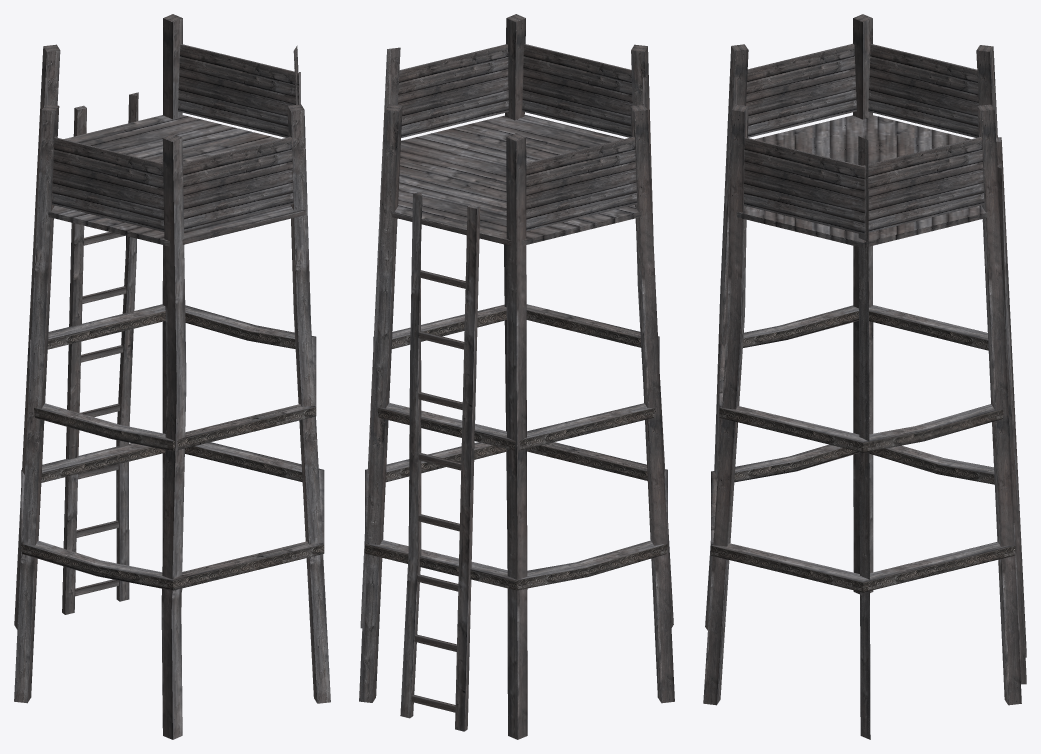
File: v3_huntingtower_LOD.dae
3 views of the same model, side by side, from view 1: azimuth 30°, elevation 25°; view 2: azimuth 150°, elevation 25°; view 3: azimuth 270°, elevation 25° (orthographic).
Parts seen in each view (by area): view 1: WoodPlanks, Wood_planks_ornaments; view 2: WoodPlanks, Wood_planks_ornaments; view 3: WoodPlanks, Wood_planks_ornaments.
Boxes of the visible parts, x1,y1,x2,y2 form: WoodPlanks: (14, 14, 330, 739); Wood_planks_ornaments: (21, 304, 324, 590); WoodPlanks: (359, 14, 674, 739); Wood_planks_ornaments: (365, 304, 667, 590); WoodPlanks: (703, 14, 1026, 739); Wood_planks_ornaments: (711, 305, 1015, 592).
Bounding box in the file's own units: 3.41 × 6.15 × 3.06.
